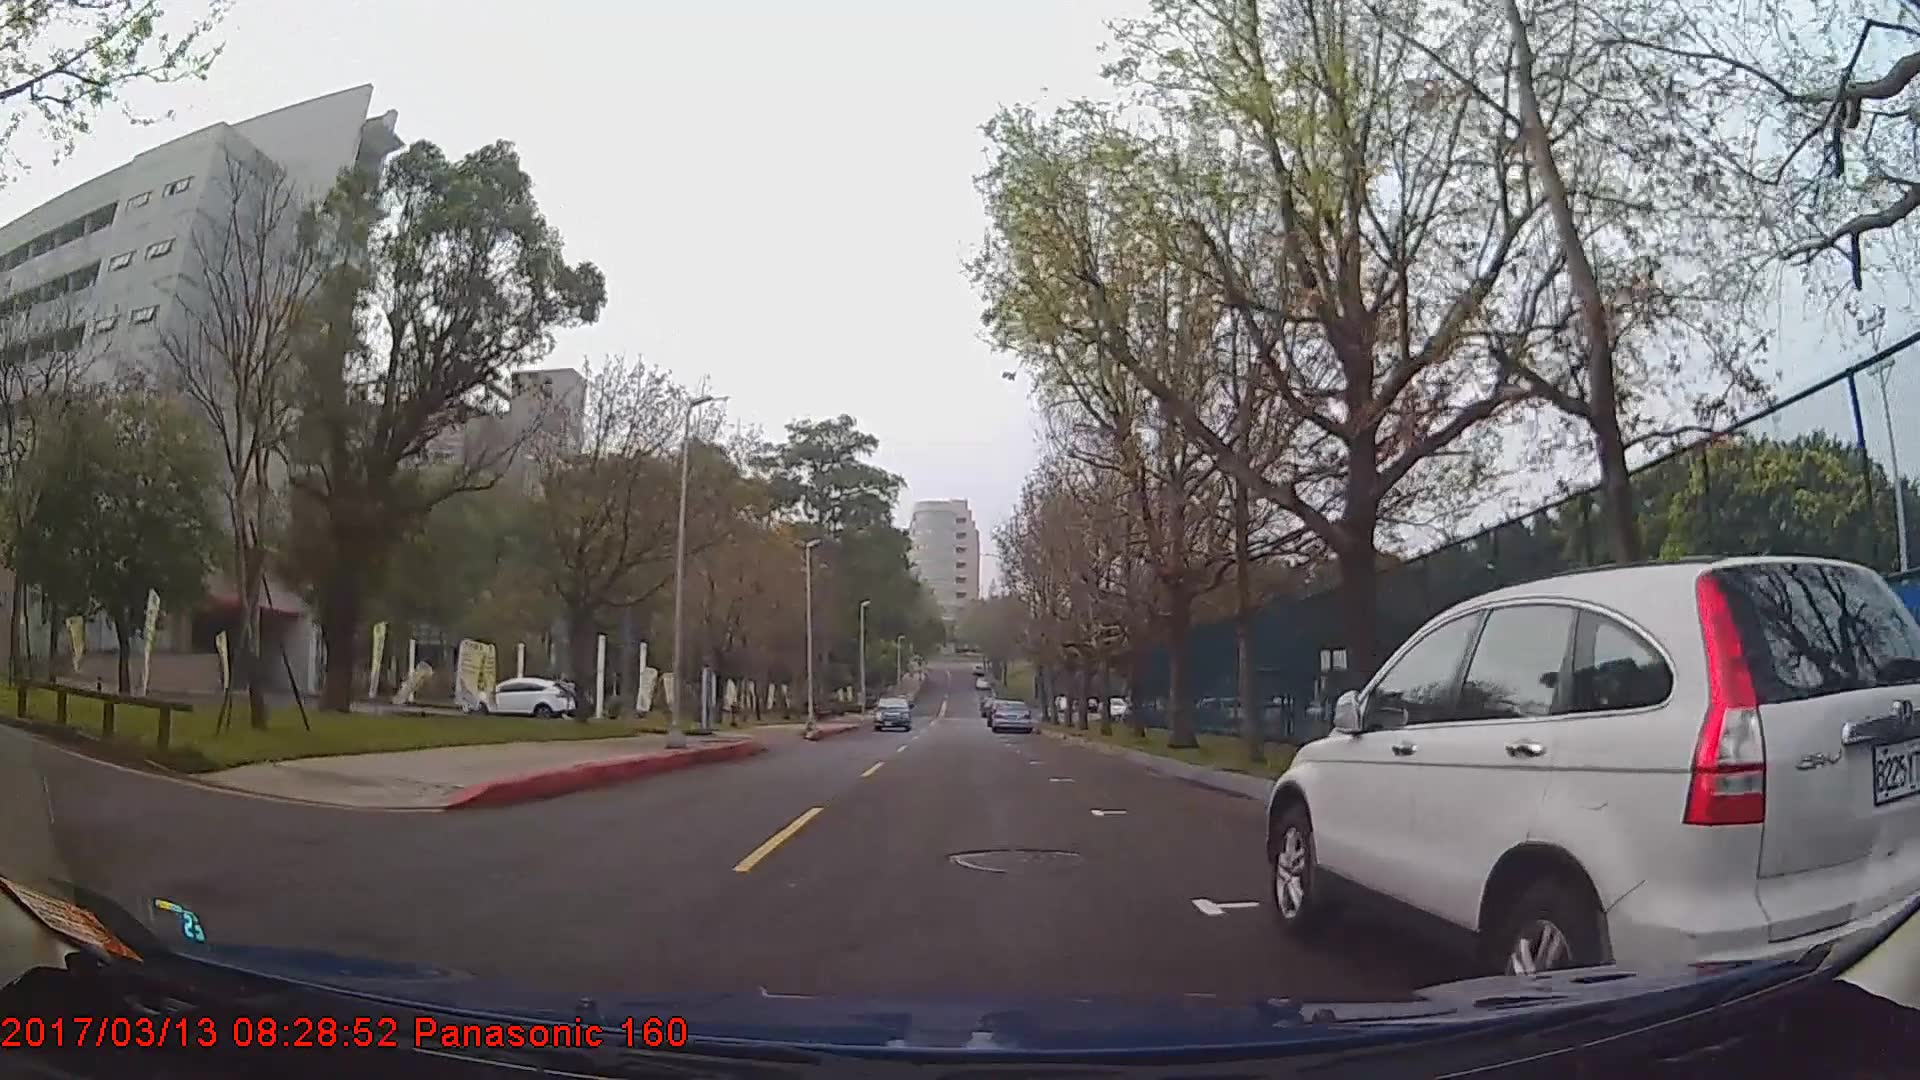vehicle: (1265, 555, 1920, 1026), (467, 675, 575, 721), (874, 692, 913, 731), (990, 698, 1031, 733)
